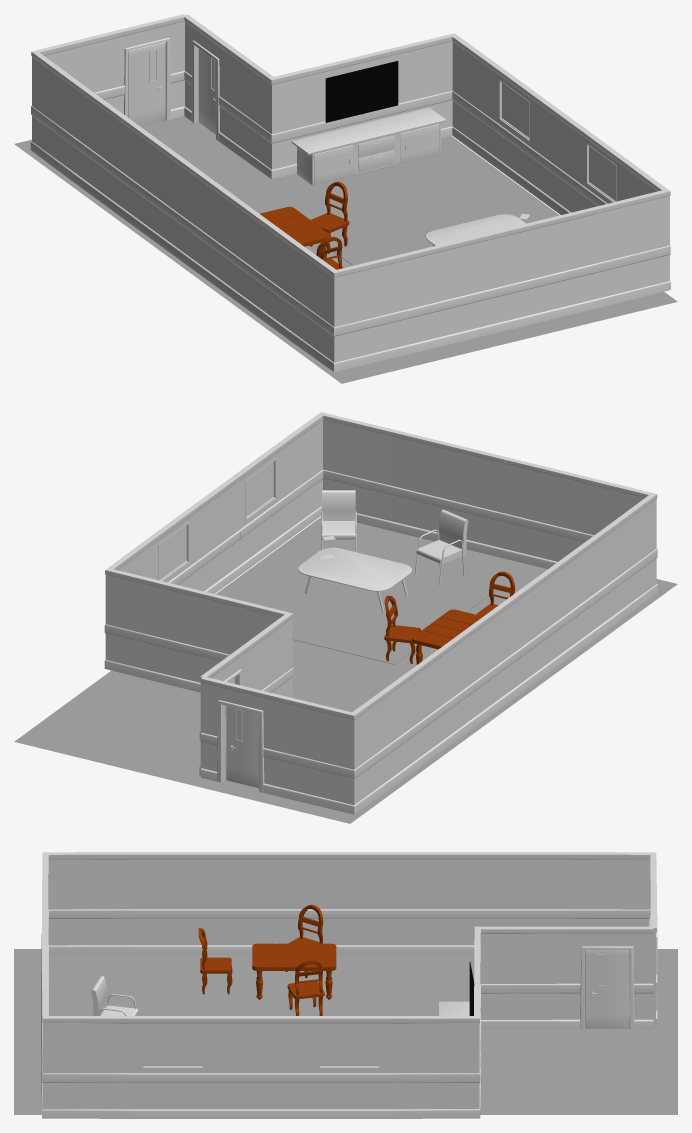
The model's file is ApartmentLayoutMemento.fbx.
The picture shows the model from 3 angles, top to bottom: view 1: azimuth 30°, elevation 25°; view 2: azimuth 150°, elevation 25°; view 3: azimuth 270°, elevation 25°; orthographic projection.
Parts seen in each view (by area): view 1: pPlane1, Tile_Corner3, Tile_Corner5, Tile_Corner2, Tile_Corner, Tile_Wall, Tile_Wall9, Cabinet_1, Tile_Corner6, pPlane2, Tile_Wall11, Tile_Wall10 (+16 smaller); view 2: pPlane1, pPlane2, Tile_Corner6, Tile_Corner, Tile_Corner2, Tile_Wall9, Tile_Corner3, Tile_Wall, Tile_Wall_Doorway_3, Tile_Corner5, Tile_Wall7, Tile_Wall8 (+15 smaller); view 3: pPlane1, Tile_Corner2, Tile_Corner, Tile_Wall_Window1, Tile_Wall_Window3, Tile_Wall2, Tile_Wall7, Tile_Wall11, Tile_Corner5, Tile_Corner3, Tile_Wall8, Tile_Wall10 (+13 smaller).
Boxes of the visible parts, bbox=[...] form: pPlane1: bbox=[14, 116, 677, 383]; Tile_Corner3: bbox=[290, 241, 408, 371]; Tile_Corner5: bbox=[228, 48, 345, 179]; Tile_Corner2: bbox=[381, 33, 497, 163]; Tile_Corner: bbox=[594, 160, 670, 308]; Tile_Wall: bbox=[519, 207, 597, 326]; Tile_Wall9: bbox=[405, 235, 483, 354]; Cabinet_1: bbox=[291, 107, 446, 185]; Tile_Corner6: bbox=[30, 33, 108, 181]; pPlane2: bbox=[329, 192, 545, 265]; Tile_Wall11: bbox=[116, 113, 165, 244]; Tile_Wall10: bbox=[203, 177, 252, 308]; pPlane1: bbox=[14, 517, 677, 823]; pPlane2: bbox=[230, 536, 505, 664]; Tile_Corner6: bbox=[279, 683, 397, 814]; Tile_Corner: bbox=[278, 412, 394, 542]; Tile_Corner2: bbox=[104, 539, 181, 686]; Tile_Wall9: bbox=[504, 457, 582, 568]; Tile_Corner3: bbox=[580, 476, 657, 623]; Tile_Wall: bbox=[391, 430, 469, 549]; Tile_Wall_Doorway_3: bbox=[200, 676, 282, 796]; Tile_Corner5: bbox=[216, 595, 293, 697]; Tile_Wall7: bbox=[566, 524, 615, 655]; Tile_Wall8: bbox=[479, 588, 528, 719]; pPlane1: bbox=[14, 949, 677, 1114]; Tile_Corner2: bbox=[393, 982, 481, 1118]; Tile_Corner: bbox=[41, 982, 128, 1118]; Tile_Wall_Window1: bbox=[129, 1016, 217, 1118]; Tile_Wall_Window3: bbox=[305, 1016, 393, 1118]; Tile_Wall2: bbox=[217, 1016, 305, 1118]; Tile_Wall7: bbox=[129, 852, 217, 954]; Tile_Wall11: bbox=[393, 852, 481, 954]; Tile_Corner5: bbox=[474, 926, 560, 1054]; Tile_Corner3: bbox=[41, 852, 128, 979]; Tile_Wall8: bbox=[305, 852, 393, 954]; Tile_Wall10: bbox=[217, 852, 305, 954].
Bounding box in the file's own units: 912 × 251 × 1506.
